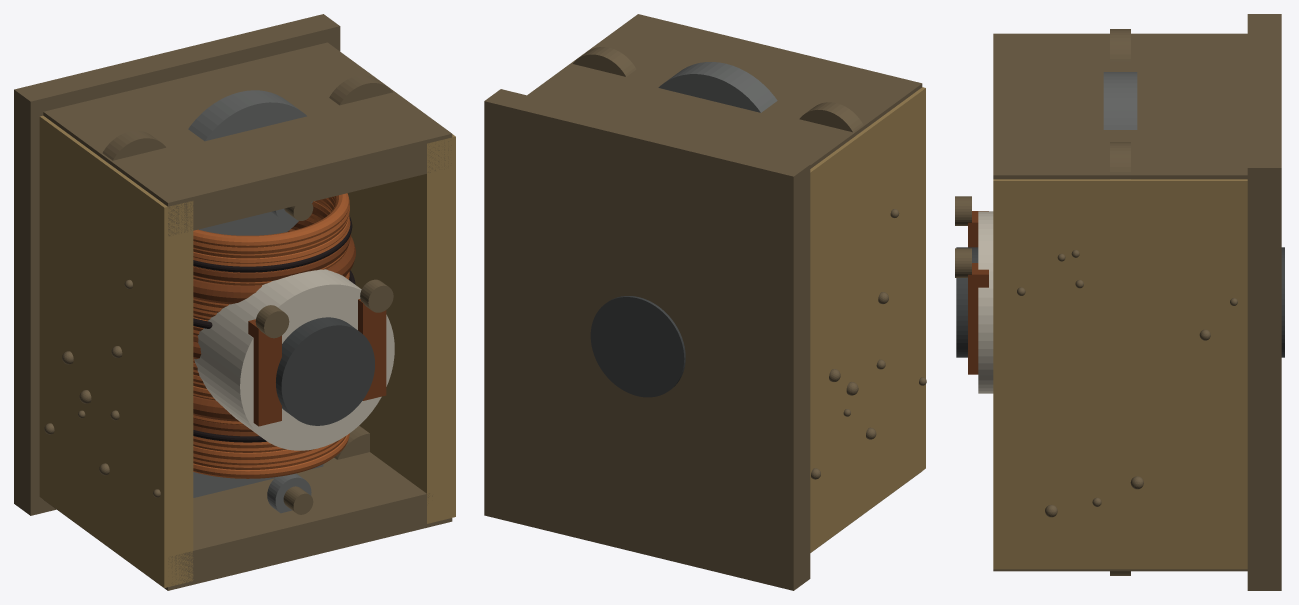
The model's file is Solenoid_M11A.glb.
3 renders of one model, left to right at view 1: azimuth 30°, elevation 25°; view 2: azimuth 150°, elevation 25°; view 3: azimuth 270°, elevation 25°, orthographic. The views are drawn at different scales.
Parts seen in each view (by area): view 1: Left Brass Upright, Upper Brass Crossbar, Right Brass Upright, Rear Mounting Plate, Lower Brass Crossbar, Coil Former, Iron Core, Upper Pole Shoe, Contact Tab -0.29, Copper Winding 42, Contact Tab 0.29, Fused Winding +0.34 (+19 smaller); view 2: Rear Mounting Plate, Left Brass Upright, Upper Brass Crossbar, Iron Core, Upper Pole Shoe, Mount Foot -0.63,0.93, Mount Foot 0.63,0.93; view 3: Right Brass Upright, Upper Brass Crossbar, Rear Mounting Plate, Coil Former, Upper Pole Shoe, Iron Core, Contact Tab 0.29, Lower Brass Crossbar, Mount Foot 0.63,0.93, Mount Foot -0.63,0.93, Contact Rivet -0.29, Contact Rivet 0.29.
Boxes of the visible parts, box(x1,y1,x2,y2) form: Left Brass Upright: box(39, 115, 193, 587); Upper Brass Crossbar: box(43, 42, 452, 236); Right Brass Upright: box(347, 134, 455, 523); Rear Mounting Plate: box(14, 14, 340, 515); Lower Brass Crossbar: box(44, 452, 452, 590); Coil Former: box(194, 269, 394, 450); Iron Core: box(276, 317, 374, 425); Upper Pole Shoe: box(188, 90, 312, 235); Contact Tab -0.29: box(248, 319, 281, 426); Copper Winding 42: box(193, 193, 349, 247); Contact Tab 0.29: box(358, 299, 386, 400); Fused Winding +0.34: box(193, 219, 355, 304); Rear Mounting Plate: box(484, 89, 810, 590); Left Brass Upright: box(810, 87, 925, 552); Upper Brass Crossbar: box(527, 14, 922, 168); Iron Core: box(590, 296, 685, 397); Upper Pole Shoe: box(658, 62, 777, 112); Mount Foot -0.63,0.93: box(799, 102, 864, 136); Mount Foot 0.63,0.93: box(573, 47, 636, 76); Right Brass Upright: box(993, 179, 1247, 569); Upper Brass Crossbar: box(993, 33, 1247, 179); Rear Mounting Plate: box(1247, 14, 1281, 590); Coil Former: box(978, 211, 993, 393); Upper Pole Shoe: box(1103, 72, 1137, 129); Iron Core: box(956, 247, 1284, 357); Contact Tab 0.29: box(968, 263, 988, 374); Lower Brass Crossbar: box(993, 569, 1247, 571); Mount Foot 0.63,0.93: box(1110, 142, 1130, 179); Mount Foot -0.63,0.93: box(1110, 29, 1130, 61); Contact Rivet -0.29: box(955, 196, 971, 225); Contact Rivet 0.29: box(955, 248, 971, 277).
Size of the model in its own units: 2.08 by 2.8 by 1.88.
